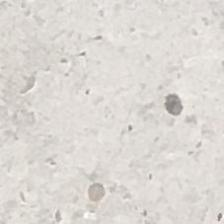Non_Crack: (17, 24, 217, 163)
